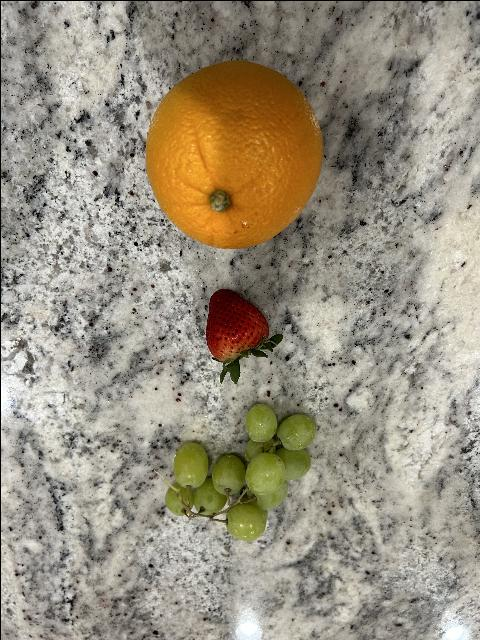Grapes: (163, 402, 319, 542)
Oranges: (144, 58, 322, 250)
Strawberries: (202, 286, 282, 386)
